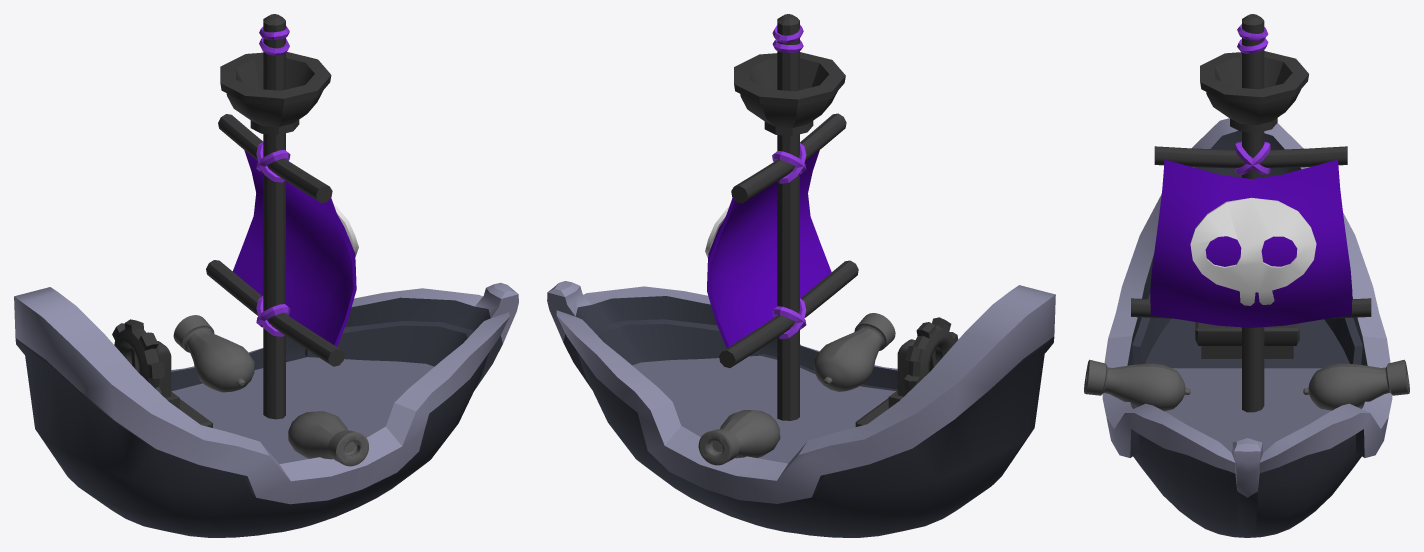
File: nave nemica viola corretta.fbx
3 renders of one model, left to right at view 1: azimuth 30°, elevation 25°; view 2: azimuth 150°, elevation 25°; view 3: azimuth 270°, elevation 25°, orthographic. The views are drawn at different scales.
Parts seen in each view (by area): view 1: nave nemica.013; view 2: nave nemica.013; view 3: nave nemica.013.
Boxes of the visible parts, x1,y1,x2,y2 form: nave nemica.013: [14, 14, 518, 537]; nave nemica.013: [547, 14, 1055, 537]; nave nemica.013: [1084, 14, 1409, 537].
Bounding box in the file's own units: 1323 × 1275 × 776.
